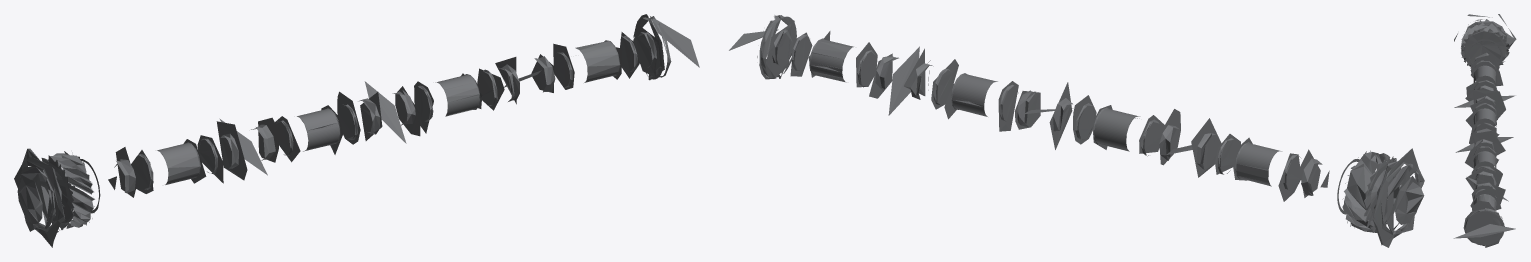
Rendered from engineComponent_camshaft_a01.glb.
The picture shows the model from 3 angles, left to right: view 1: azimuth 30°, elevation 25°; view 2: azimuth 150°, elevation 25°; view 3: azimuth 270°, elevation 25°; orthographic projection. The views are drawn at different scales.
Parts seen in each view (by area): view 1: geometry_0; view 2: geometry_0; view 3: geometry_0.
Part boxes in pixels (left/top/right/bottom): geometry_0: left=14, top=14, right=699, bottom=247; geometry_0: left=729, top=15, right=1424, bottom=247; geometry_0: left=1453, top=14, right=1516, bottom=247.
Size of the model in its own units: 0.42 by 0.0502 by 0.0555.
1 material, 1 textured.
